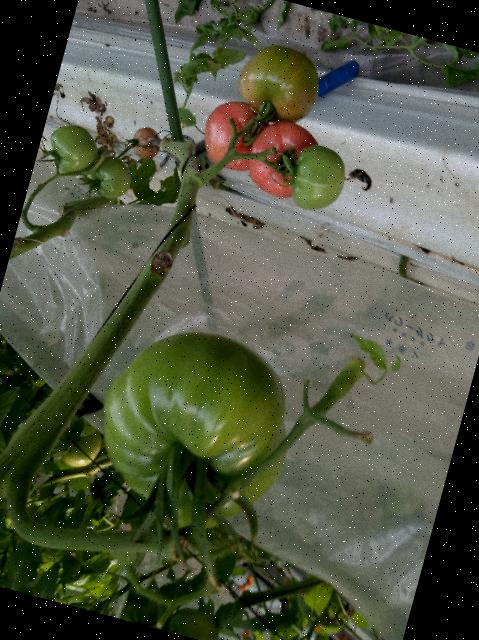b_fully_ripened: (240, 114, 322, 204), (196, 94, 272, 176)
b_green: (77, 311, 312, 549), (284, 140, 352, 218), (42, 120, 102, 181), (83, 152, 136, 203), (164, 602, 226, 640), (59, 423, 105, 472), (118, 593, 170, 631)
b_half_ripened: (229, 37, 328, 133), (127, 123, 164, 163)
